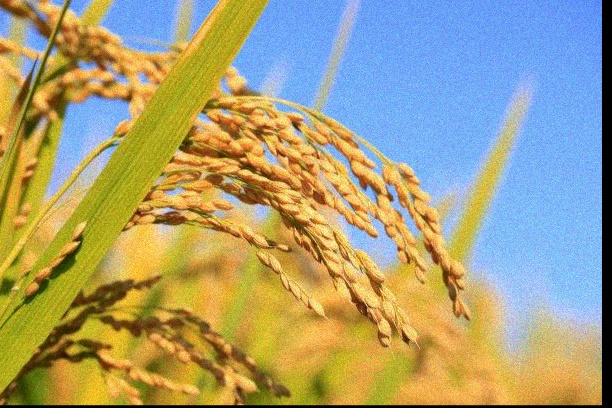rice: (41, 24, 482, 359)
